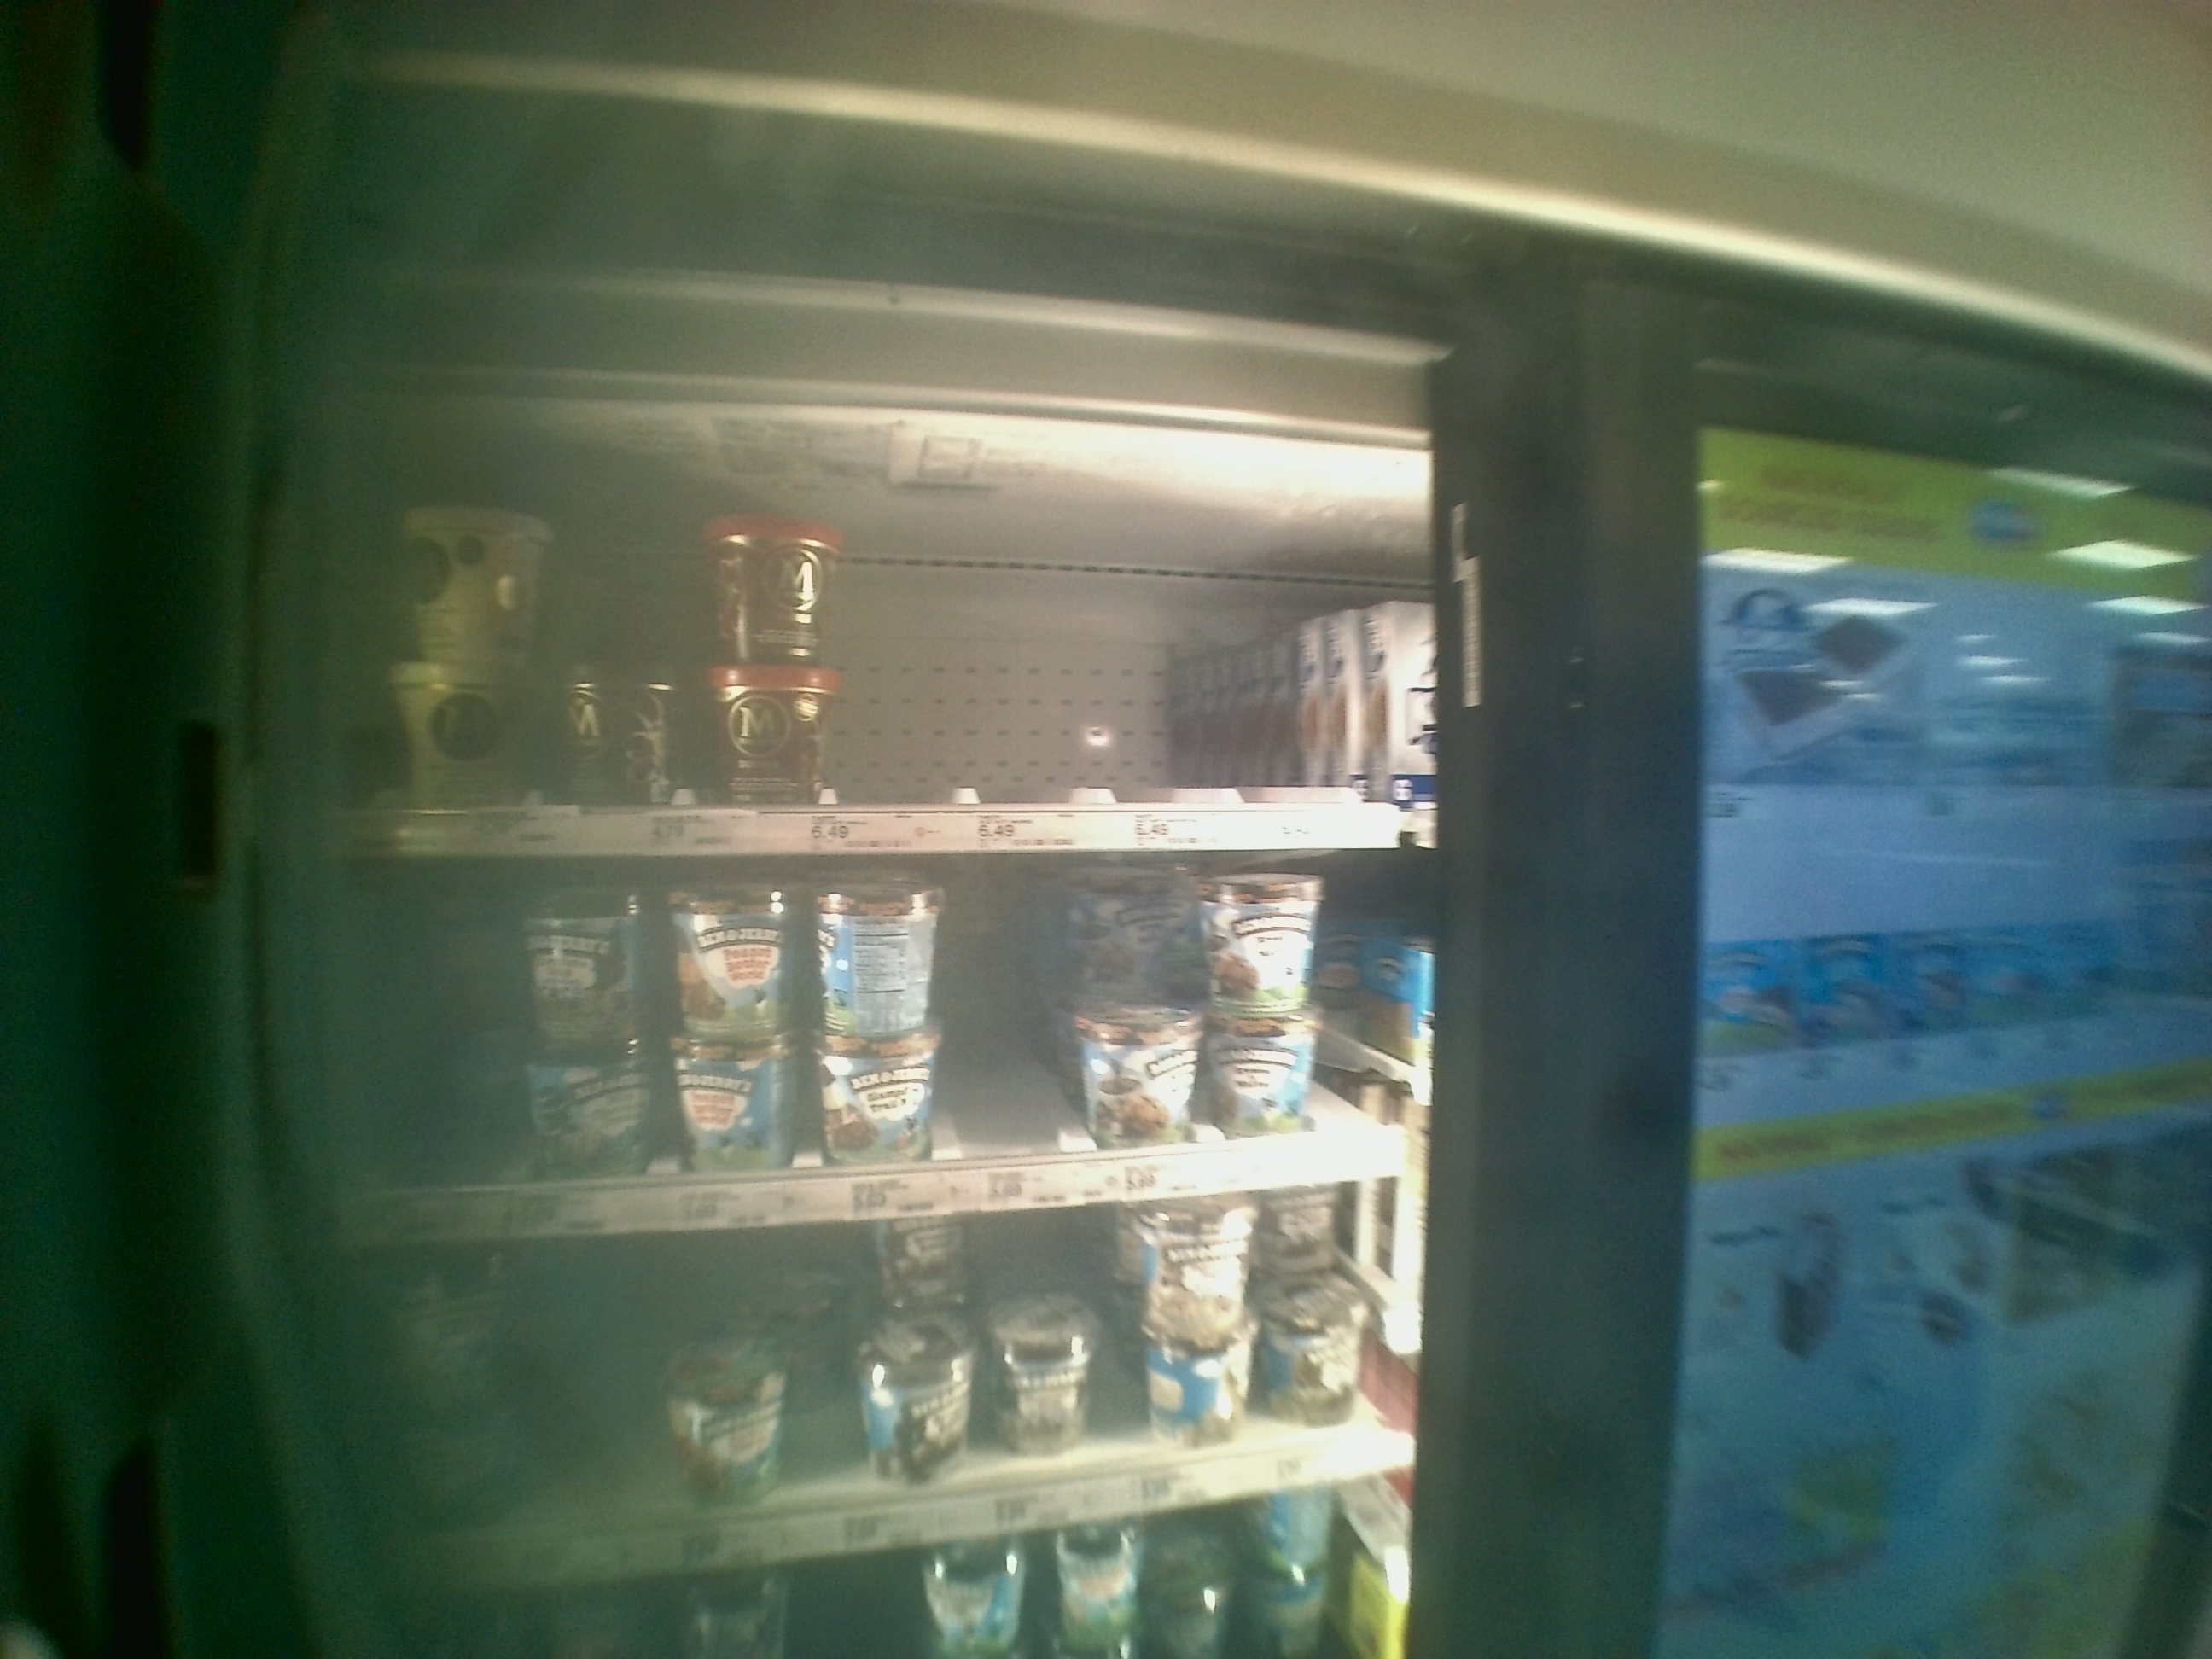shelf: (308, 408, 1435, 854), (296, 854, 1435, 1269)
